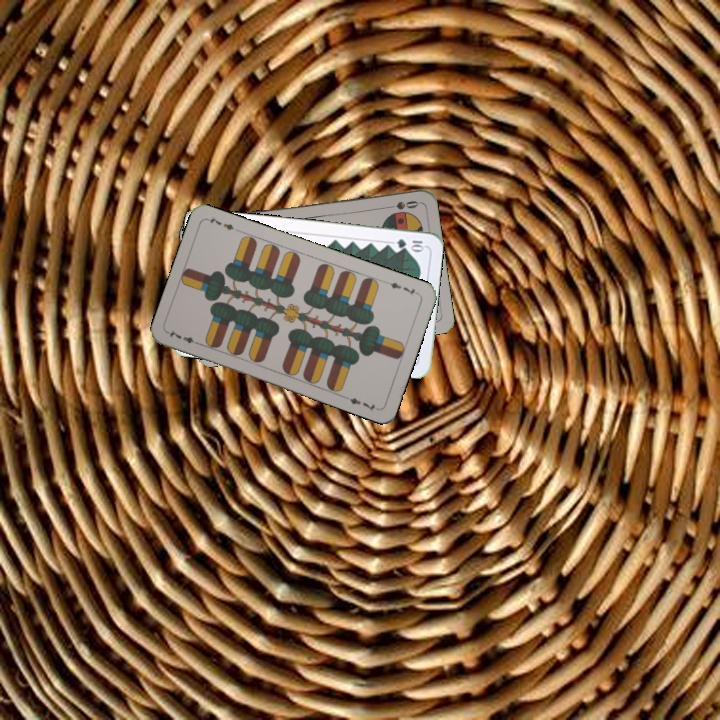E7: (164, 326, 204, 348), (382, 277, 421, 299)
G10: (393, 235, 427, 253)
SO: (381, 196, 421, 212)
